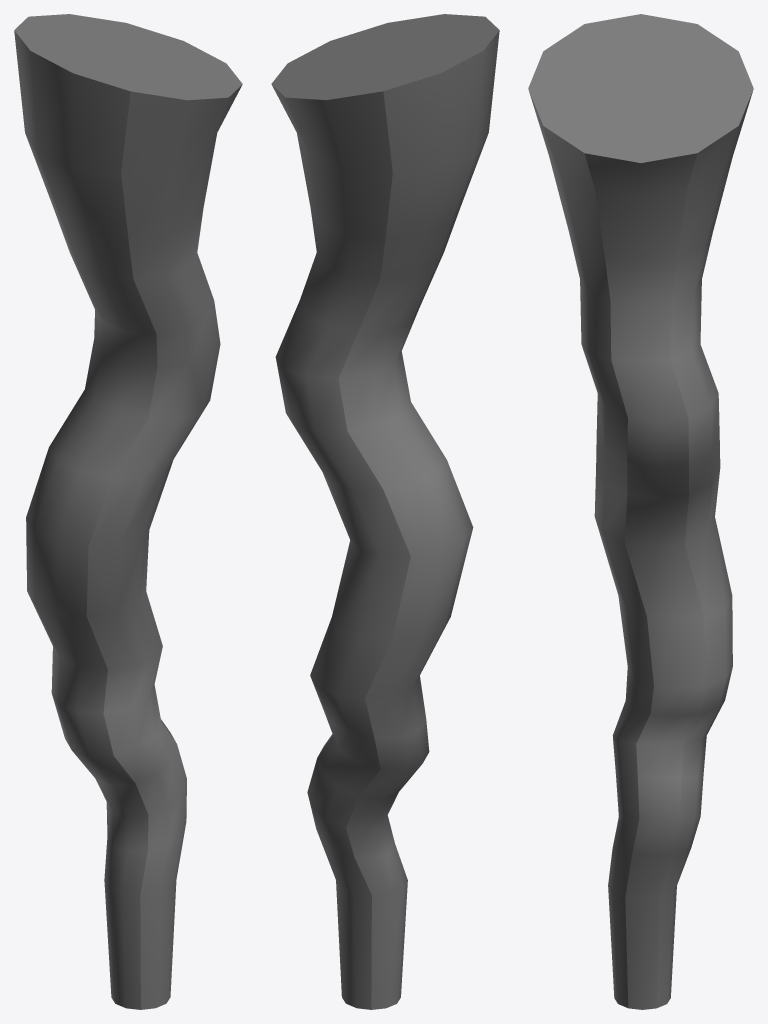
The model's file is Wizz_weapon_0.fbx.
3 renders of one model, left to right at view 1: azimuth 30°, elevation 25°; view 2: azimuth 150°, elevation 25°; view 3: azimuth 270°, elevation 25°, orthographic. The views are drawn at different scales.
Parts seen in each view (by area): view 1: Wizz_weapon_0; view 2: Wizz_weapon_0; view 3: Wizz_weapon_0.
Part boxes in pixels (<box>): Wizz_weapon_0: <box>14,14,242,1009</box>; Wizz_weapon_0: <box>271,14,499,1009</box>; Wizz_weapon_0: <box>528,14,753,1009</box>.
Size of the model in its own units: 5.06 by 24.22 by 5.28.
